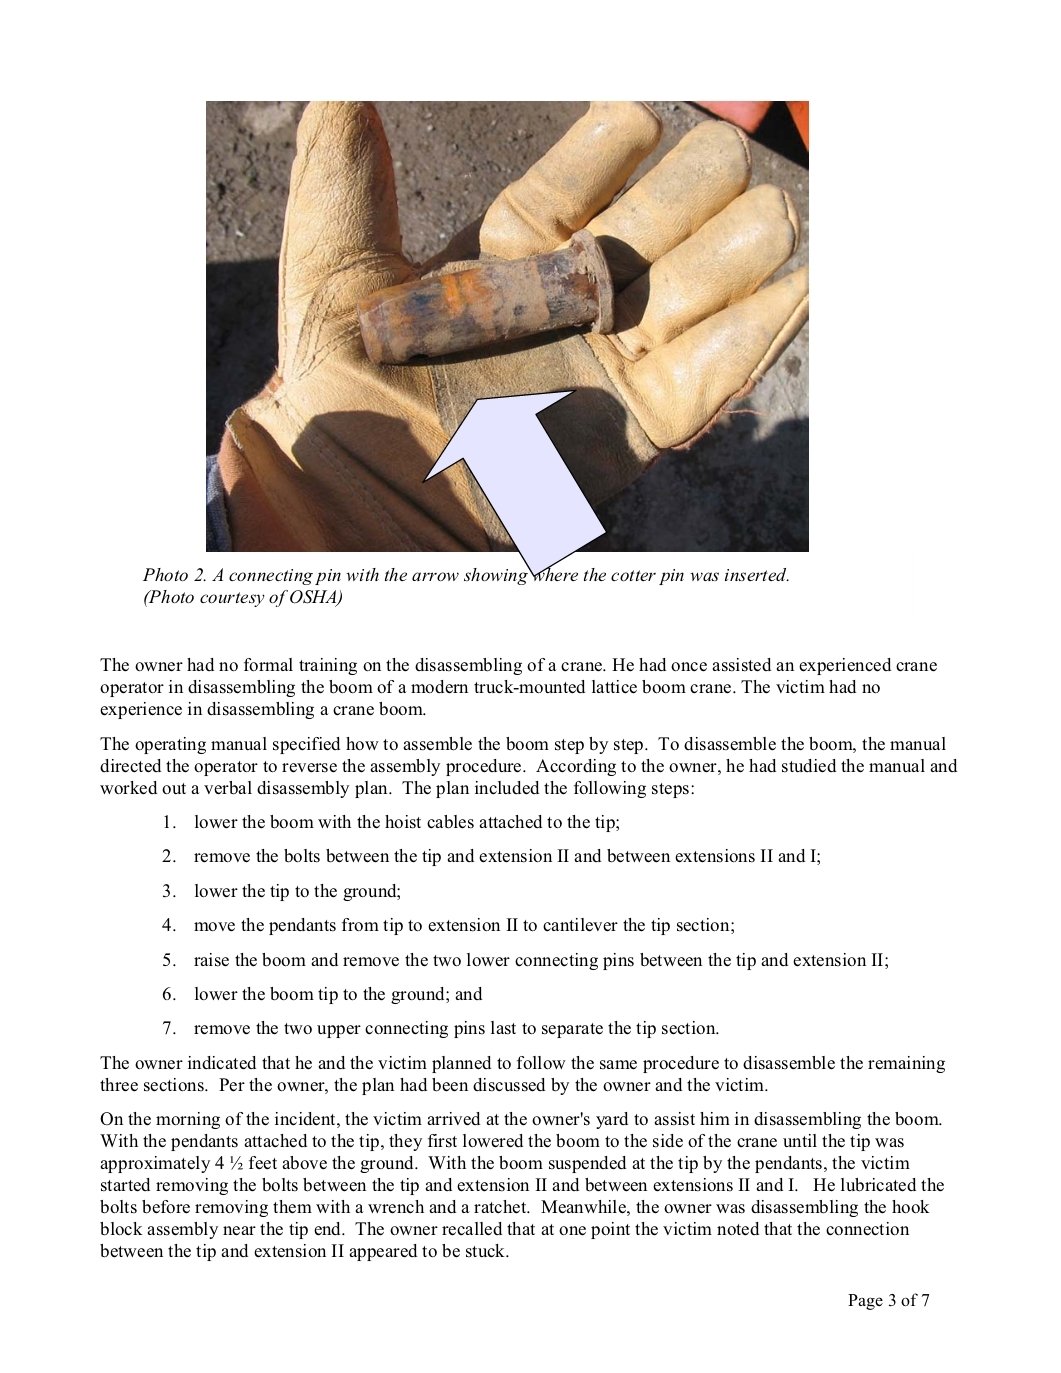figure: (142, 100, 809, 586)
